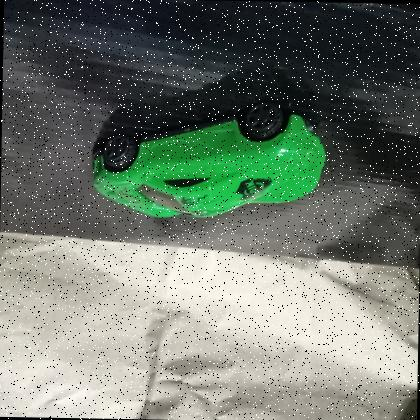Car: (90, 101, 326, 217)
